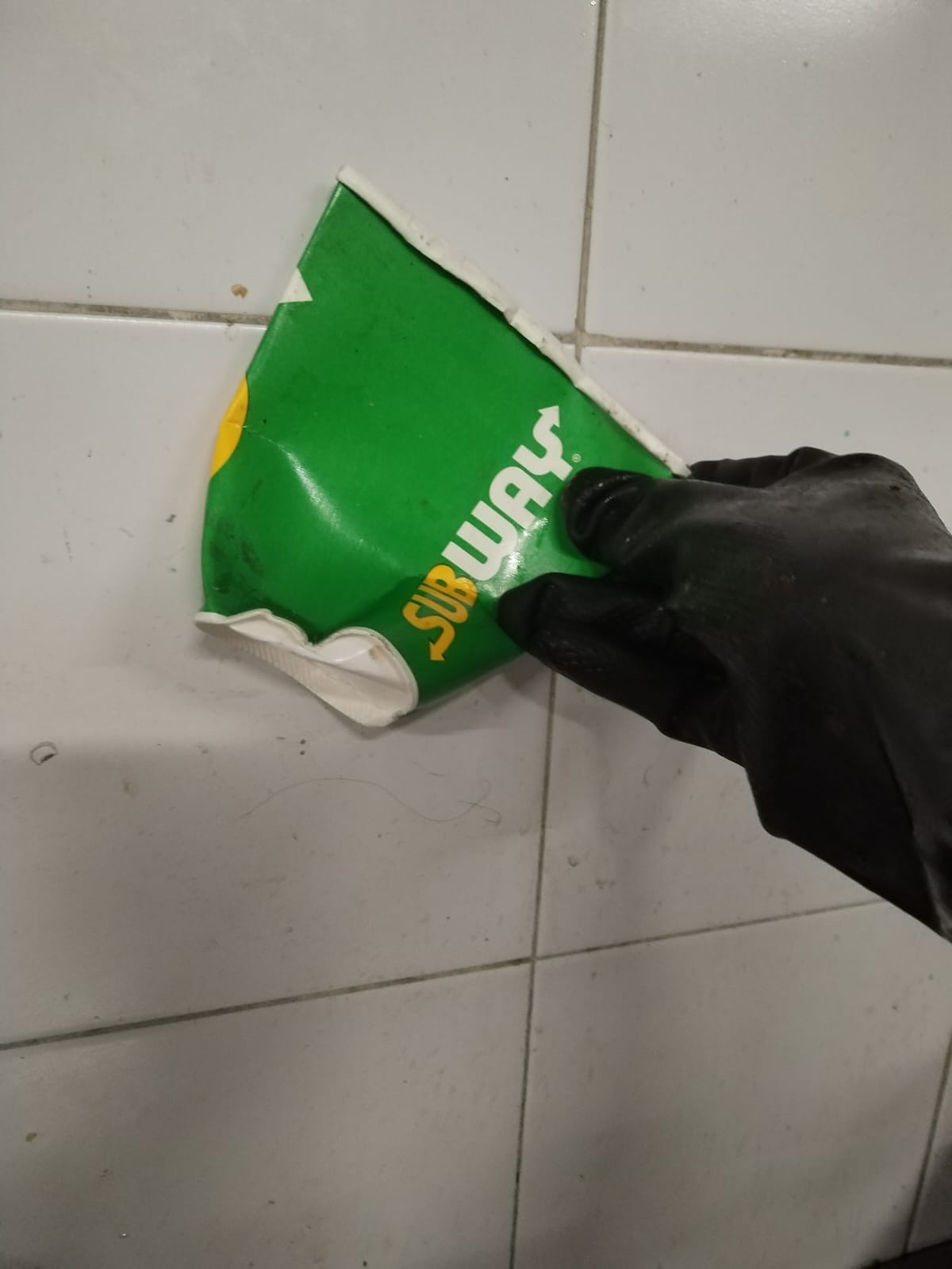Carton: (196, 170, 692, 731)
